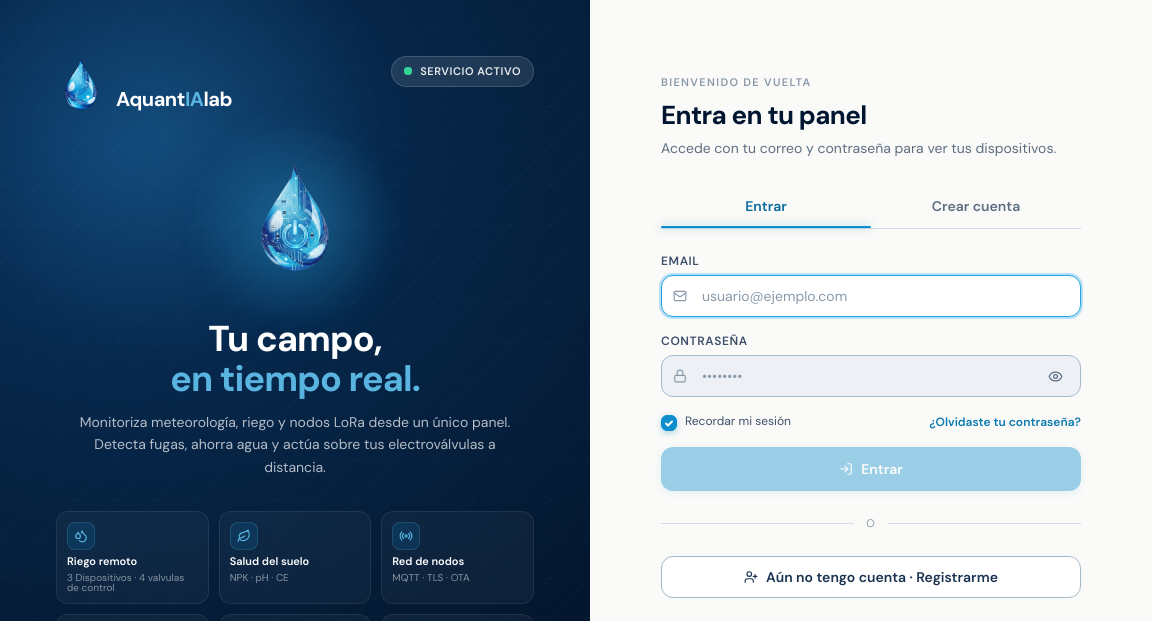
Test case: LoginView › shows name field after switching to "Crear cuenta" tab
Click the button "Crear cuenta".
click(976, 206)  # box [871,184,1081,228]
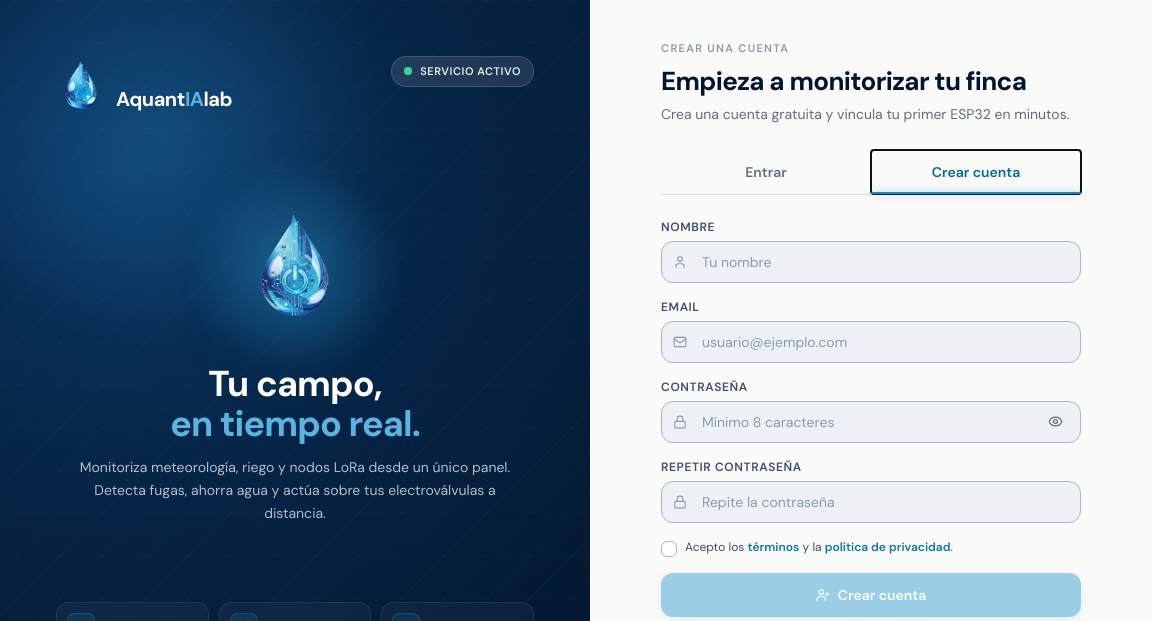
Expected: the field with placeholder "Tu nombre" is shown, [661,241,1081,283]
